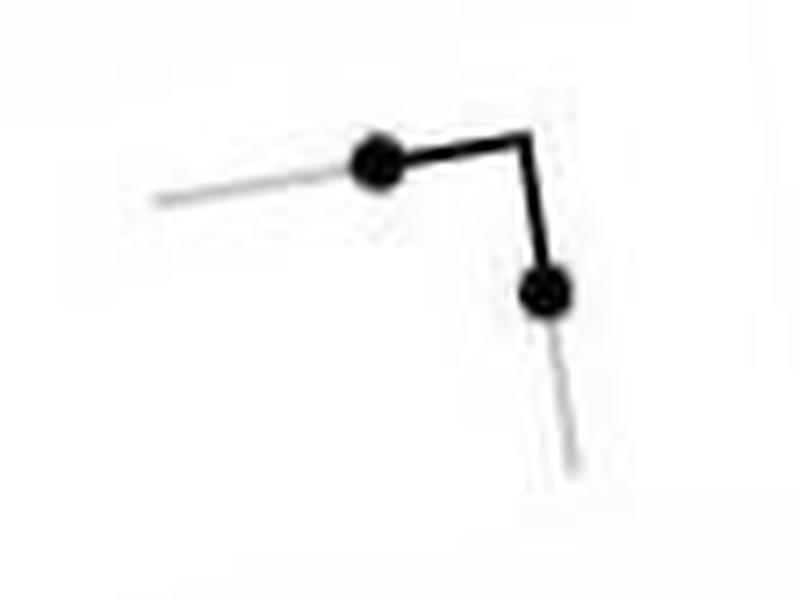butt_weld_90: (120, 112, 618, 488)
